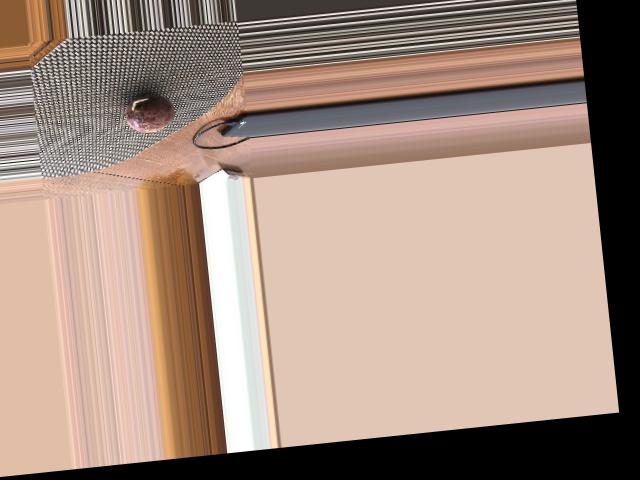beet: (124, 92, 177, 134)
